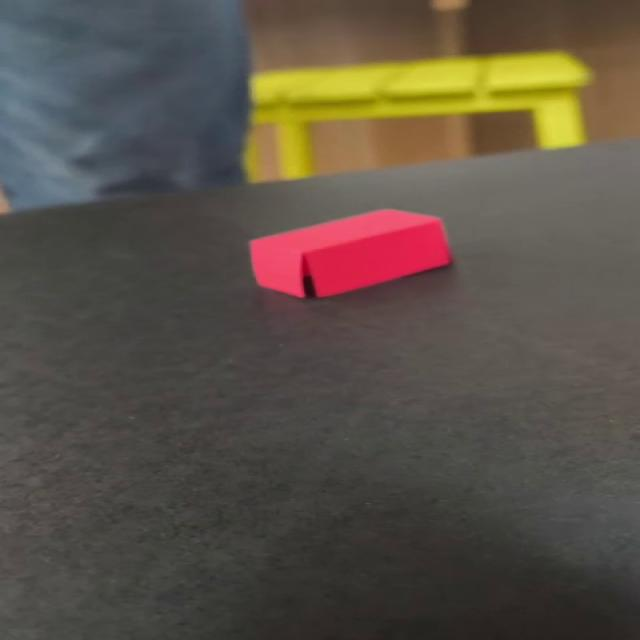red block: (247, 208, 453, 298)
